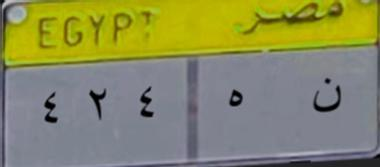2: (78, 80, 112, 131)
4: (39, 88, 63, 133), (136, 84, 160, 127)
haa: (225, 87, 248, 115)
noon: (305, 69, 344, 124)
